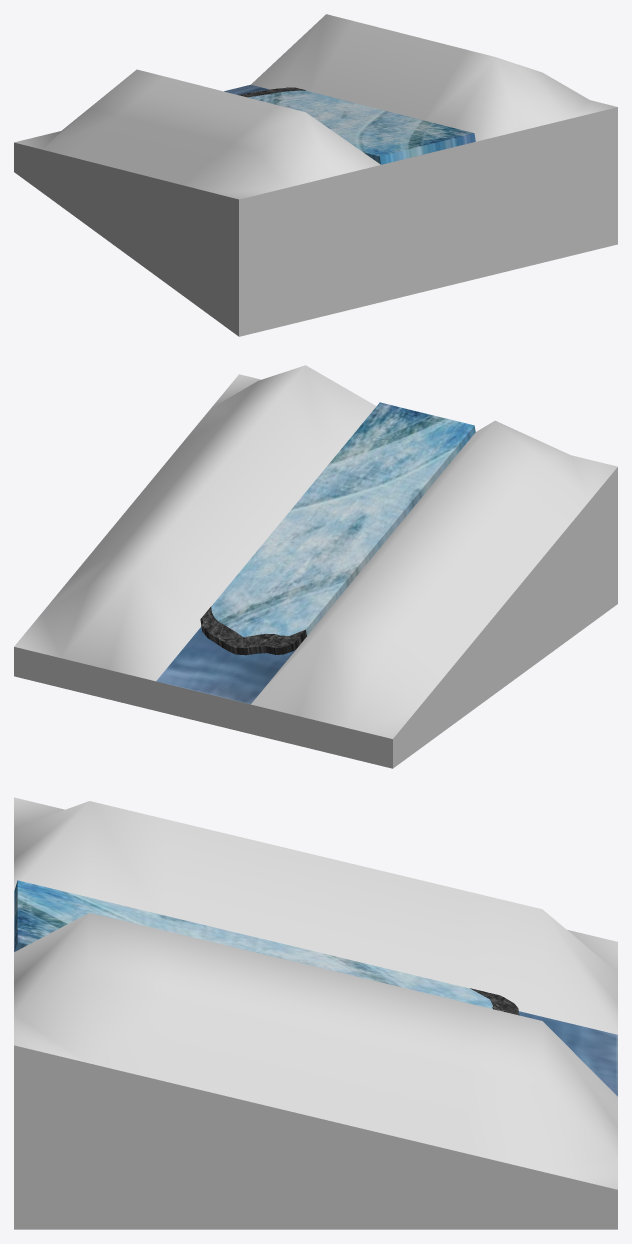
File: 侧碛堤.gltf
3 renders of one model, top to bottom at view 1: azimuth 30°, elevation 25°; view 2: azimuth 150°, elevation 25°; view 3: azimuth 270°, elevation 25°, orthographic. The views are drawn at different scales.
Parts seen in each view (by area): view 1: node_Box001_-152310, node_004_-152314; view 2: node_Box001_-152310, node_004_-152314, node_003_-152312; view 3: node_Box001_-152310, node_004_-152314.
Boxes of the visible parts, <box> form: node_Box001_-152310: <box>14,14,617,336</box>; node_004_-152314: <box>248,90,475,164</box>; node_Box001_-152310: <box>14,365,617,768</box>; node_004_-152314: <box>211,402,475,636</box>; node_003_-152312: <box>200,606,306,655</box>; node_Box001_-152310: <box>14,797,617,1229</box>; node_004_-152314: <box>14,880,492,1008</box>.
Bounding box in the file's own units: 2.25 × 1.08 × 2.31.
